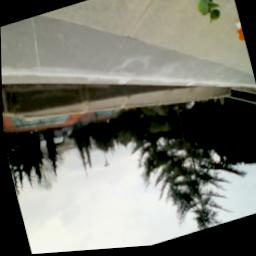herb: (192, 1, 230, 34)
